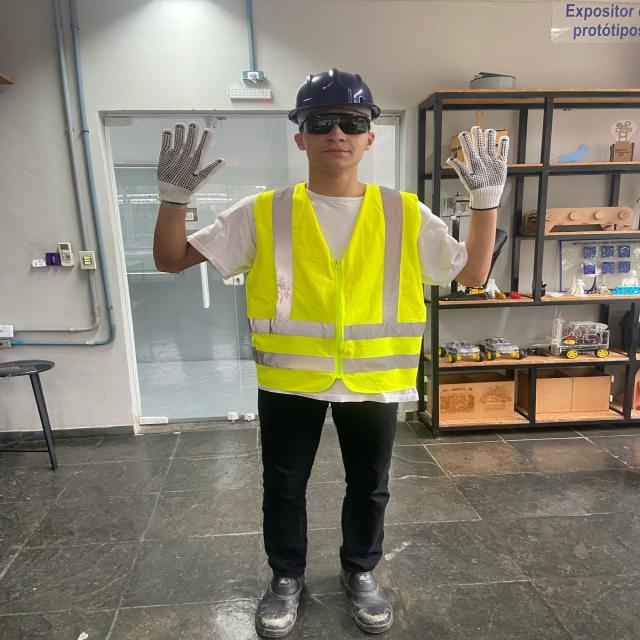BOTA: (334, 553, 401, 635), (253, 567, 308, 640)
CAPACETE: (289, 69, 387, 123)
COLETE: (244, 174, 424, 393)
LUVA: (443, 125, 514, 214), (158, 118, 229, 206)
OCULOS: (301, 114, 373, 135)
